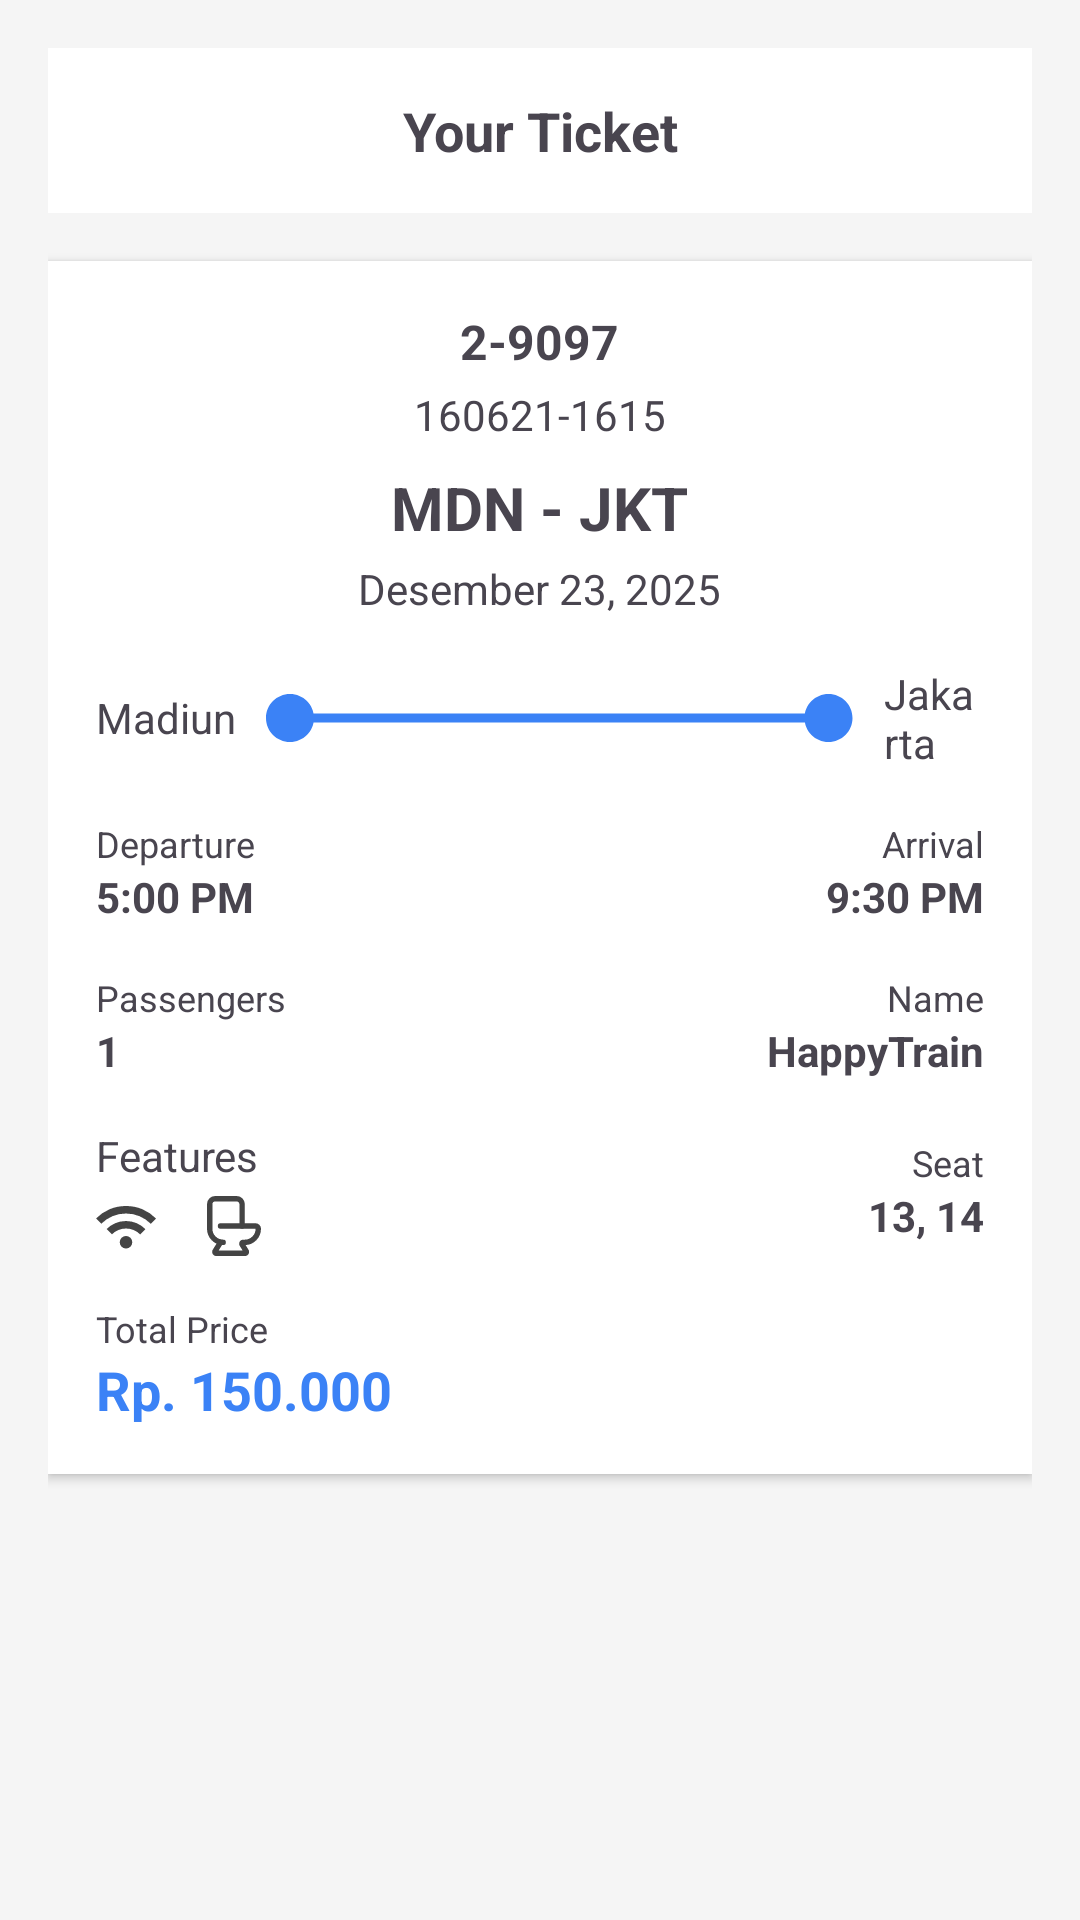

Named icons in this screenshot (1080px×1920px) and their bounding boxes, Rect(x1, y1, x2, y2):
toilet: Rect(207, 1196, 261, 1256)
wifi: Rect(96, 1206, 156, 1249)
